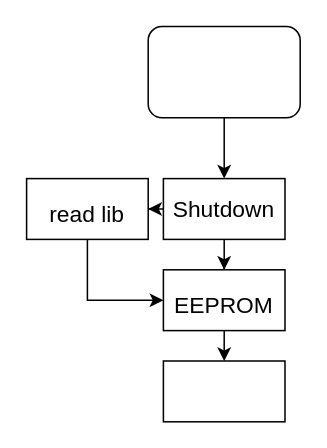
The diagram is 327 pixels wide and 448 high, and some of its shapes have lost their labels. Here are the shapes that lost their labels. From the top down, the centre of each, then its label:
At pixel 223 71: "Sleeptimer exceeded".
At pixel 223 390: "Deep Sleep".
